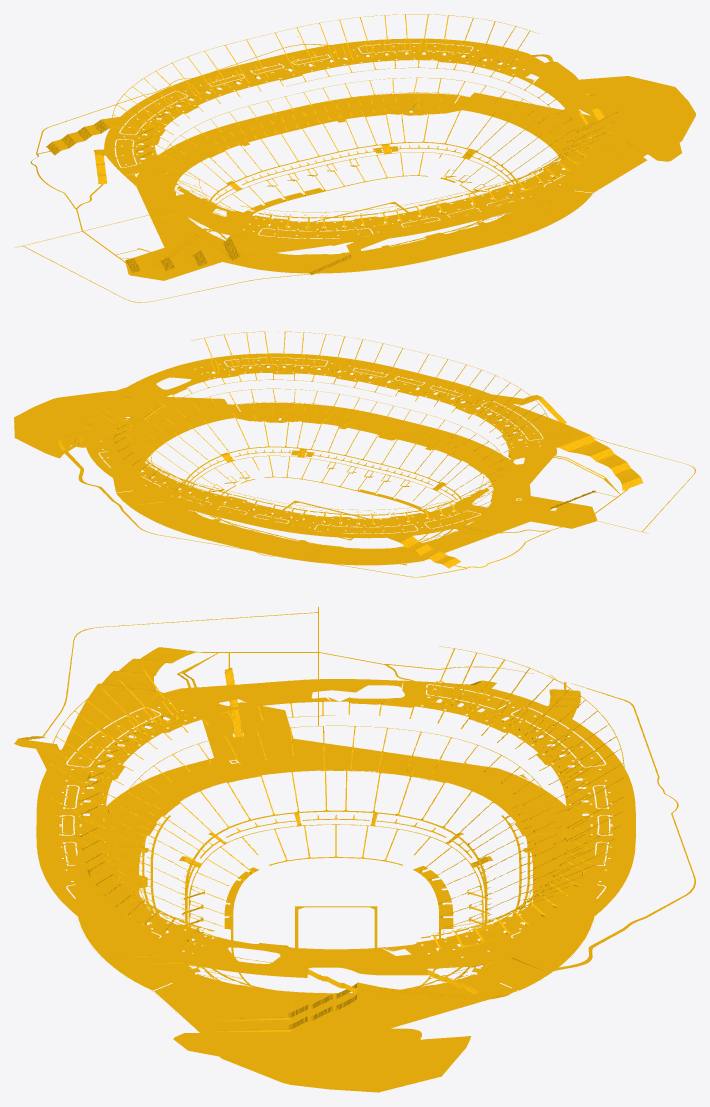
Rendered from sofi-stadium-navmesh-v4.glb.
3 views of the same model, one above another, from view 1: azimuth 30°, elevation 25°; view 2: azimuth 150°, elevation 25°; view 3: azimuth 270°, elevation 25° (orthographic). The views are drawn at different scales.
Parts seen in each view (by area): view 1: navmesh; view 2: navmesh; view 3: navmesh.
Part boxes in pixels (x1,y1,x2,y2): navmesh: (15, 14, 695, 302); navmesh: (14, 331, 695, 577); navmesh: (14, 606, 695, 1092).
Size of the model in its own units: 426 by 65.71 by 269.
